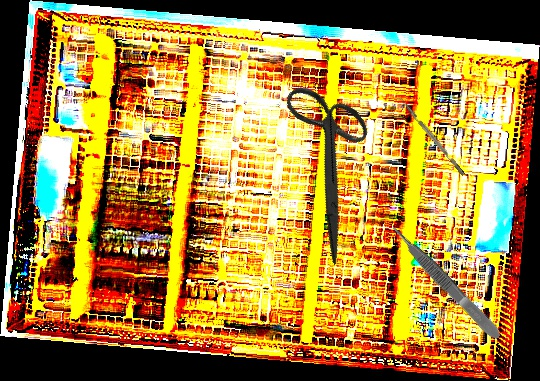Chopper: (393, 93, 466, 180)
Iris Scissors: (235, 67, 423, 265)
Tissue Forceps: (388, 220, 504, 344)
